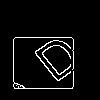D: (25, 25, 86, 84)
